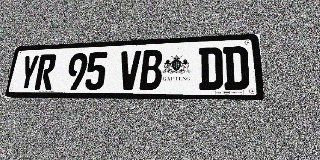5: (84, 52, 108, 90)
9: (65, 53, 88, 90)
B: (139, 49, 163, 90)
D: (223, 46, 250, 90), (199, 47, 223, 90)
R: (34, 54, 57, 90)
V: (118, 50, 141, 90)
Y: (17, 55, 40, 90)
